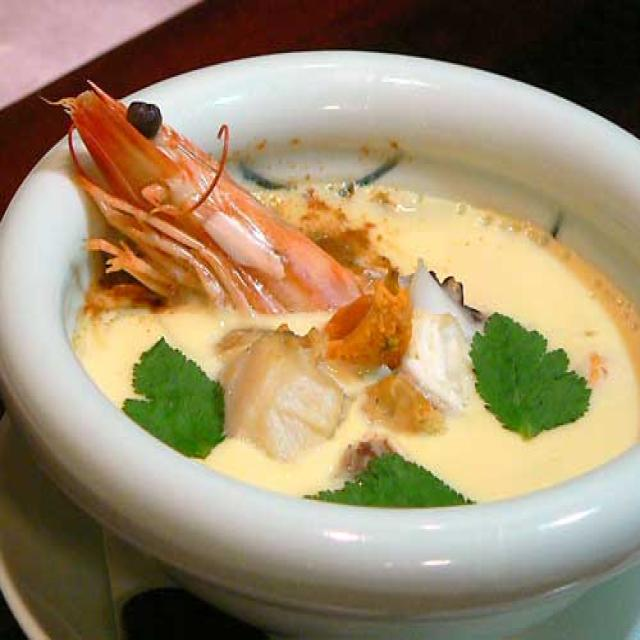鸡蛋料理: (16, 69, 640, 614)
